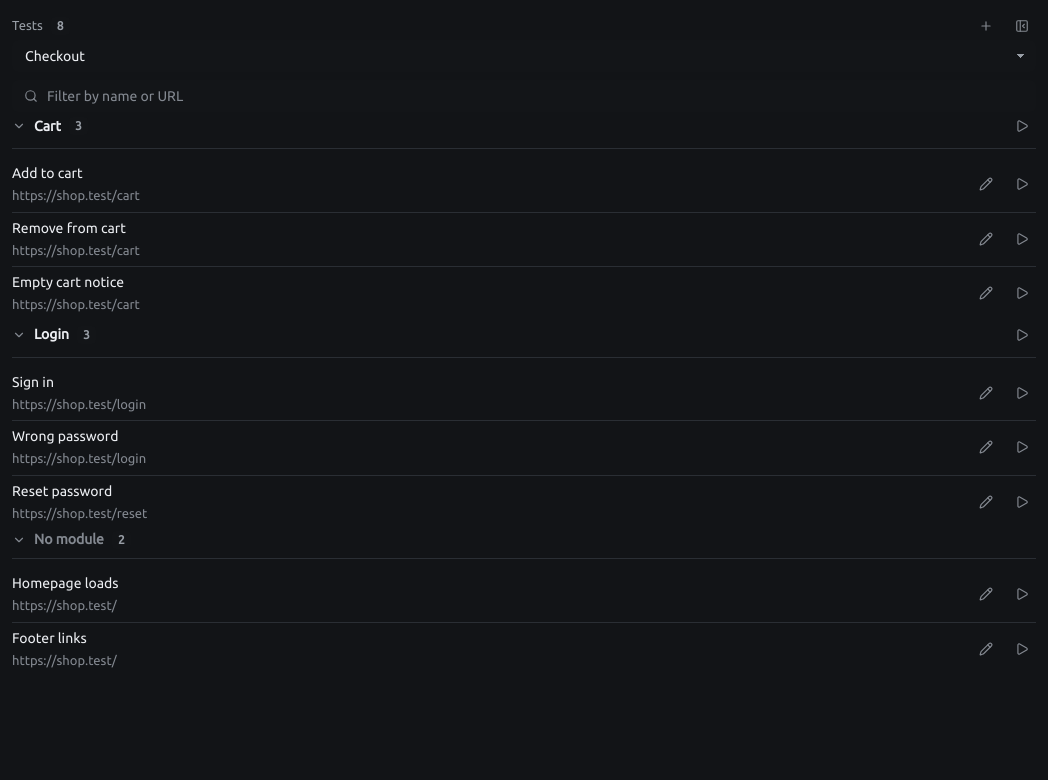
Test: SavedTests filtering › overrules a fold, and hands it back when the box is cleared
Click the button "Cart 3": (19, 126) [12, 116, 1000, 136]
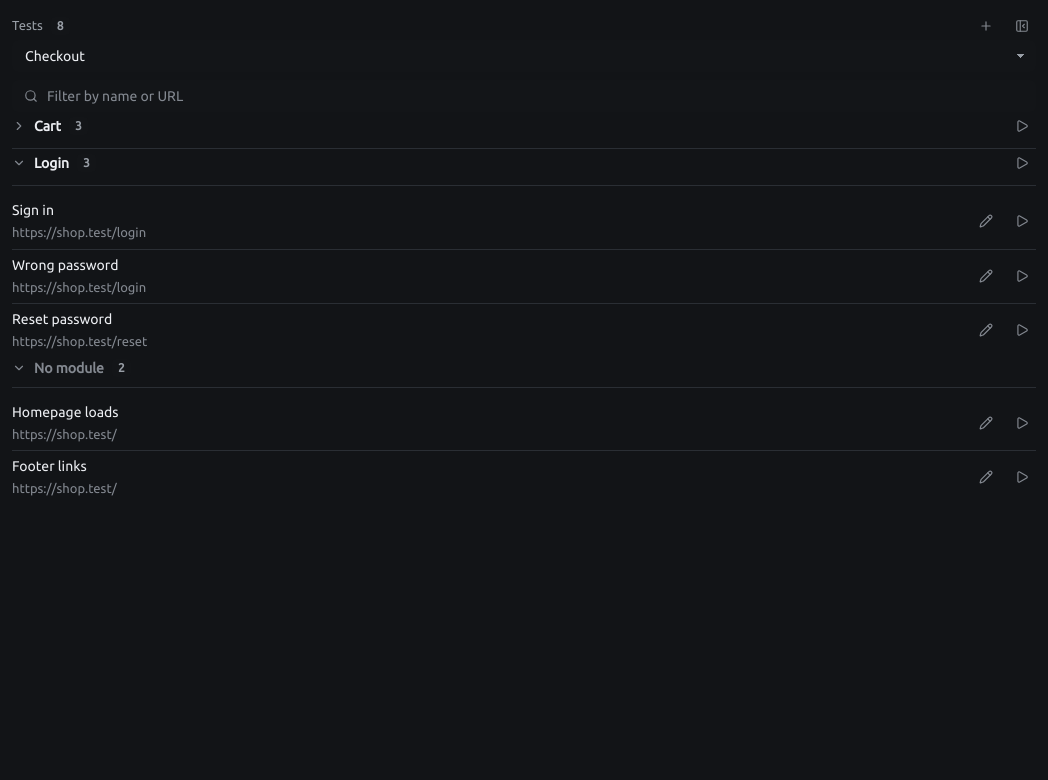
Check: the button "Add to cart" no longer shows "Add to cart"
In the search field named "Filter tests": (524, 96) [12, 80, 1036, 112], type "cart"
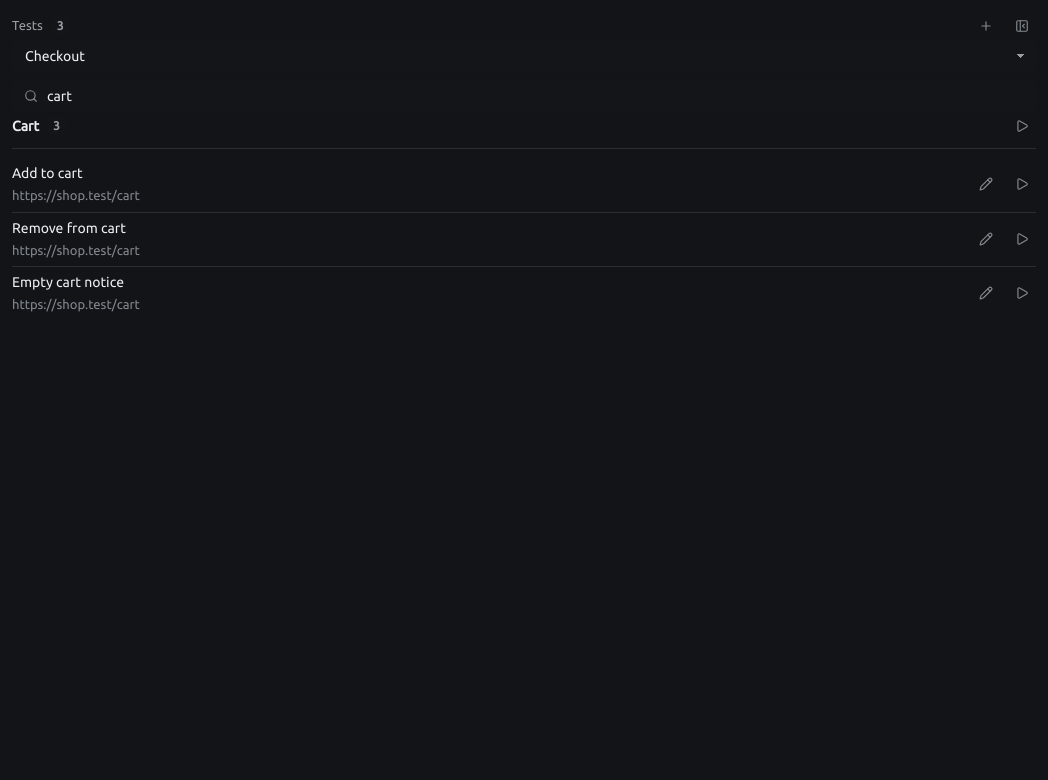
Check: the text "Add to cart" is shown, box [12, 163, 83, 184]
Clear the search field named "Filter tests": (524, 96) [12, 80, 1036, 112]
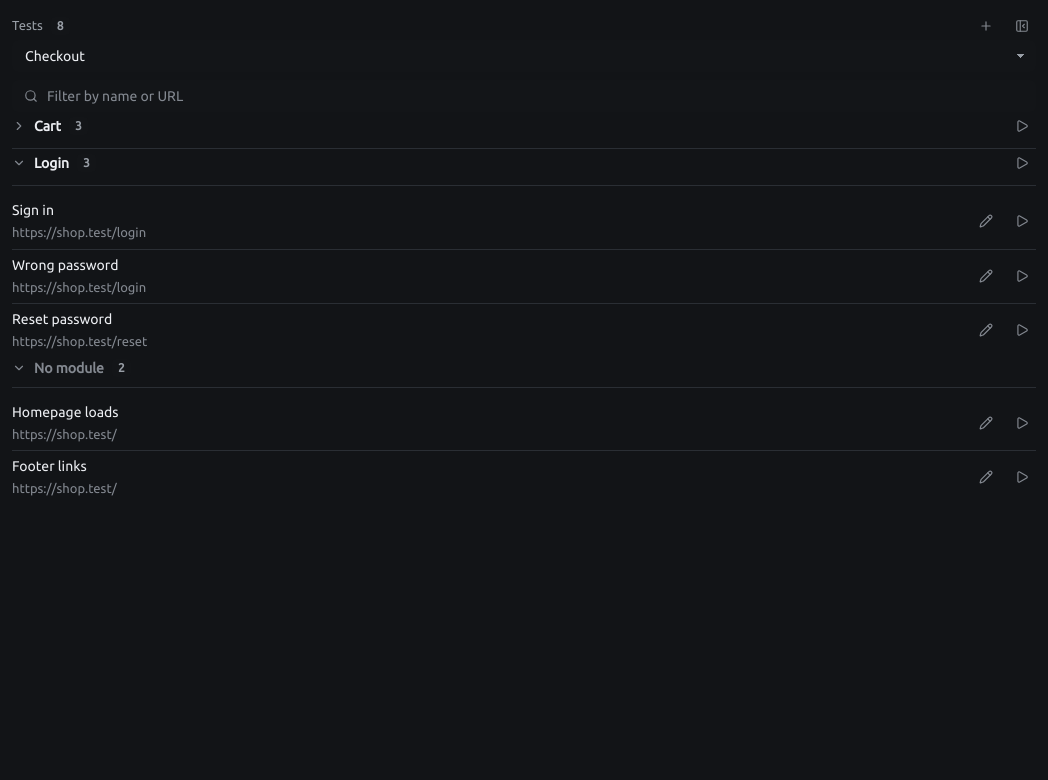
Check: the button "Add to cart" no longer shows "Add to cart"
